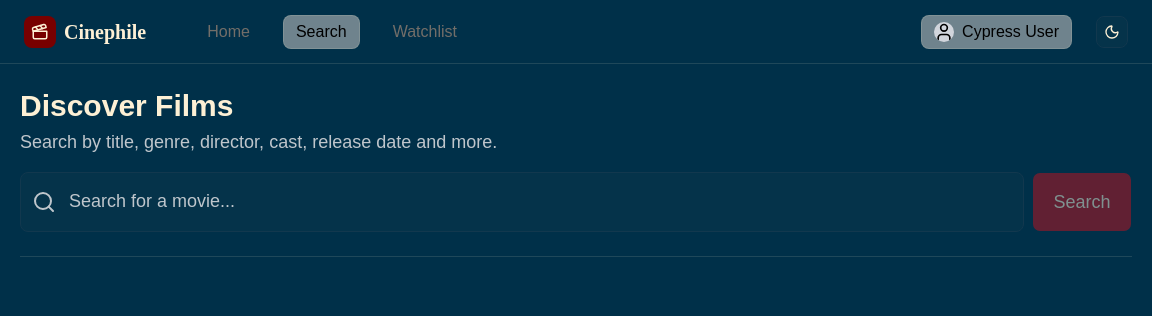
Scenario: Movie search › shows an API error without breaking the page
The width and height of the screenshot is (1152, 316).
Type "Broken" into the field with placeholder "Search for a movie..." at (522, 202), box [20,172,1024,232]
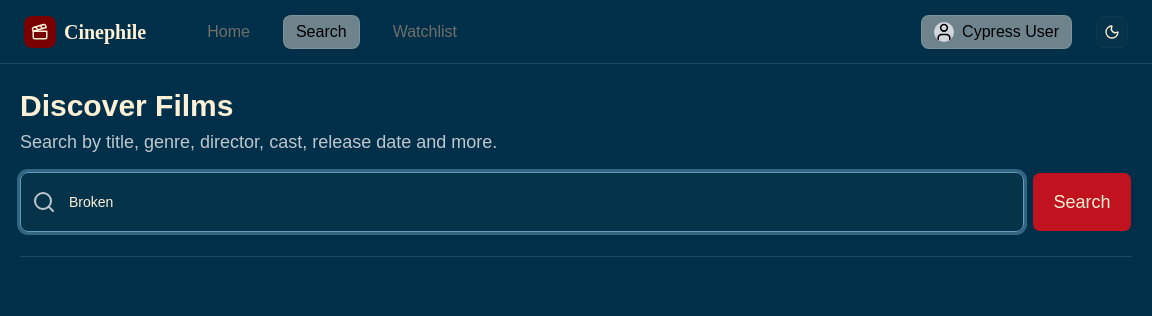
Click the button "Search" at (1082, 202), box [1032,172,1132,232]
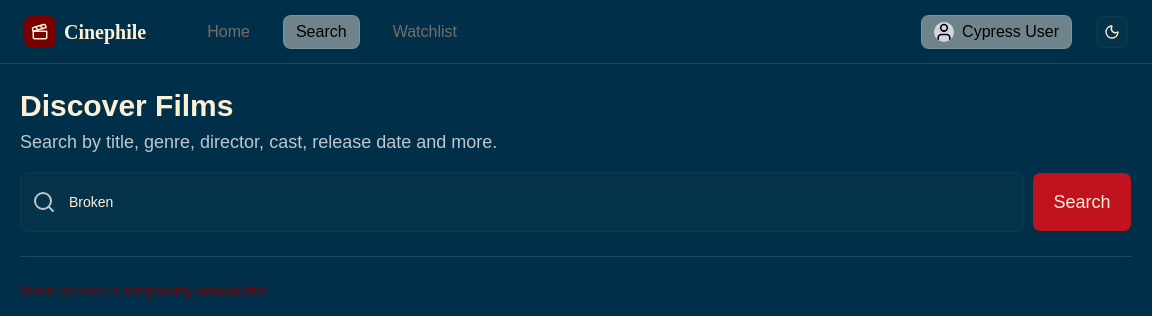
Expected: the text "Movie service is temporarily unavailable." is shown, [20,283,271,299]
